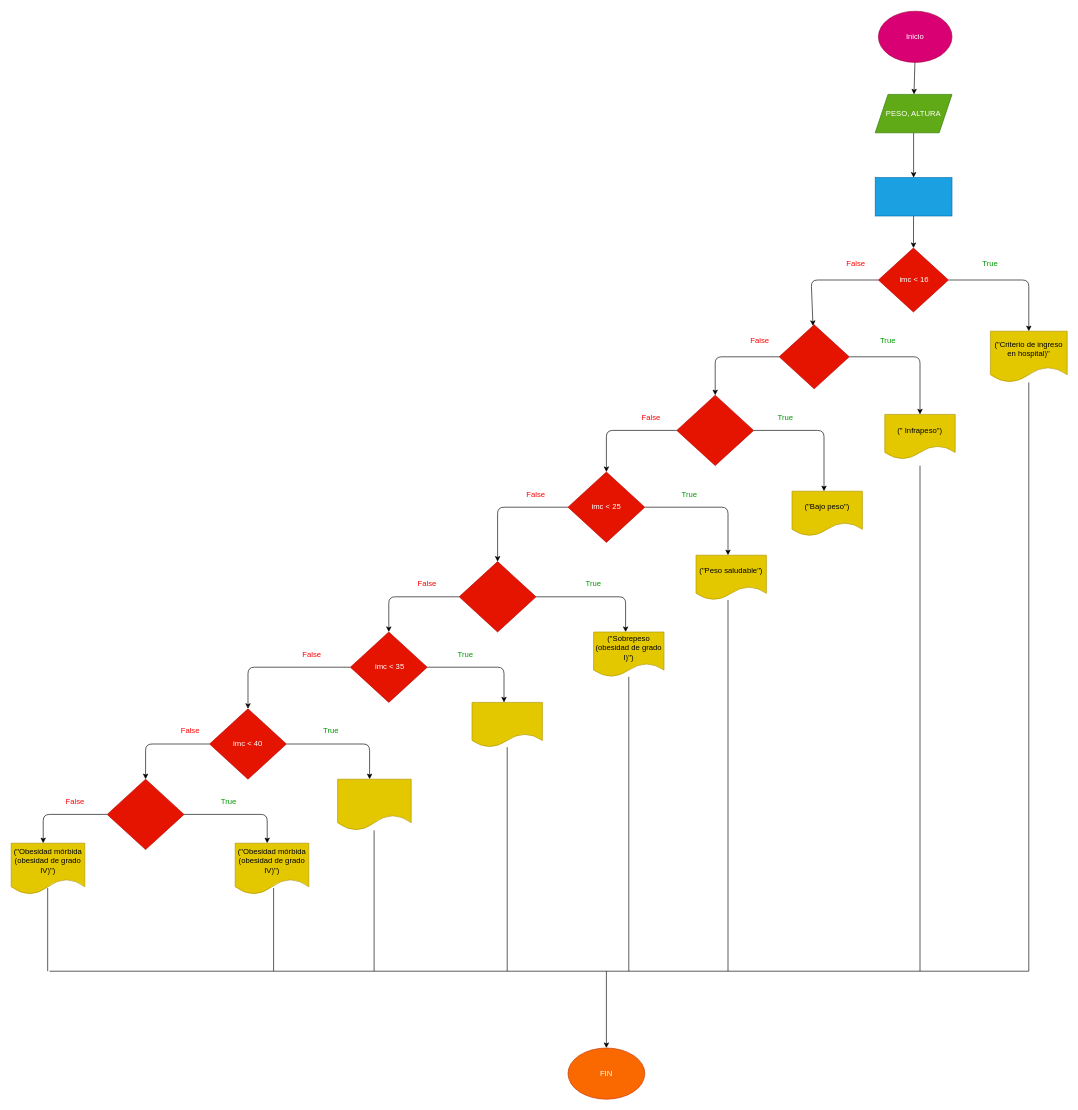
Image size: 1078x1110. Some labels were removed from this diagram. The shapes that lost their labels are listed below. From the top down, each one's centre as x and y in pixels, then its label:
the point at 913,196: IMC = kg/altura **2
the point at 814,356: imc < 17
the point at 715,430: imc < 18
the point at 497,596: imc < 30
the point at 506,724: ("Sobrepreso crónico (obesidad de grado II)")
the point at 145,814: imc > 40
the point at 374,804: ("Obesidad premórbida (obesidad de grado III)")
